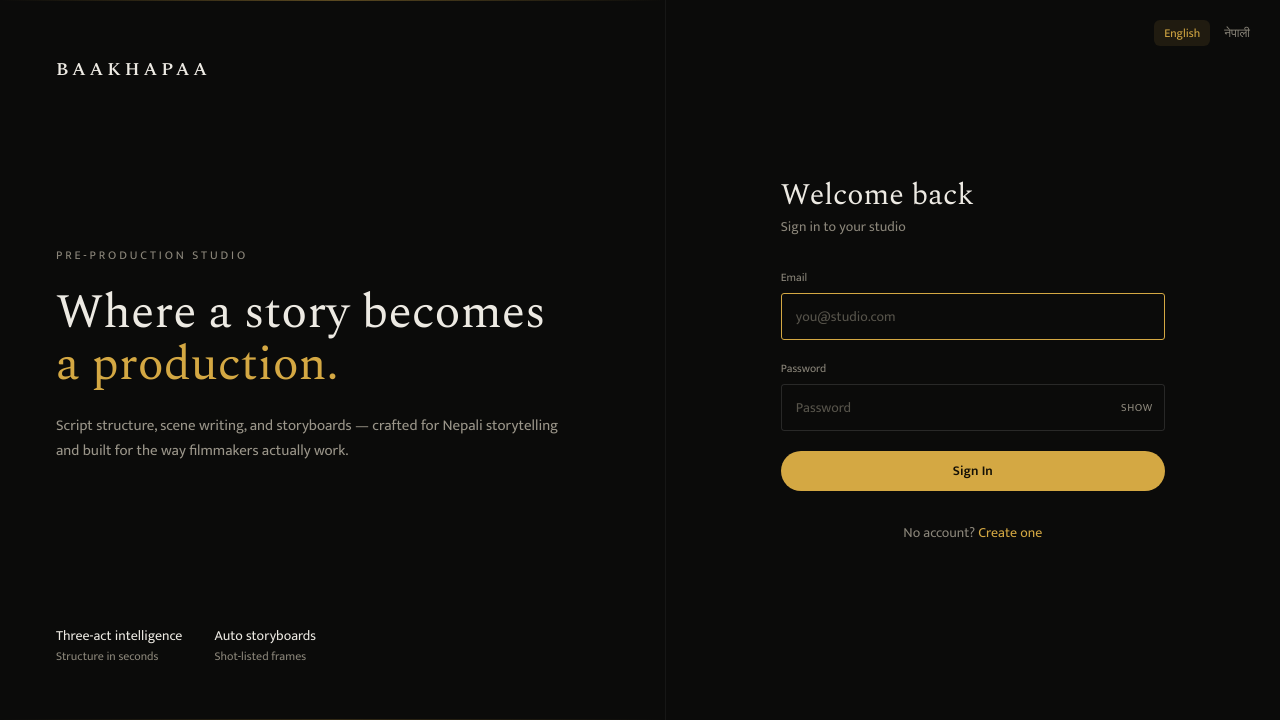
Test case: a failed sign-in is announced, not just coloured
Type "a@b.co" into the field labelled "Email" at (973, 316), box 781,293 -> 1165,340
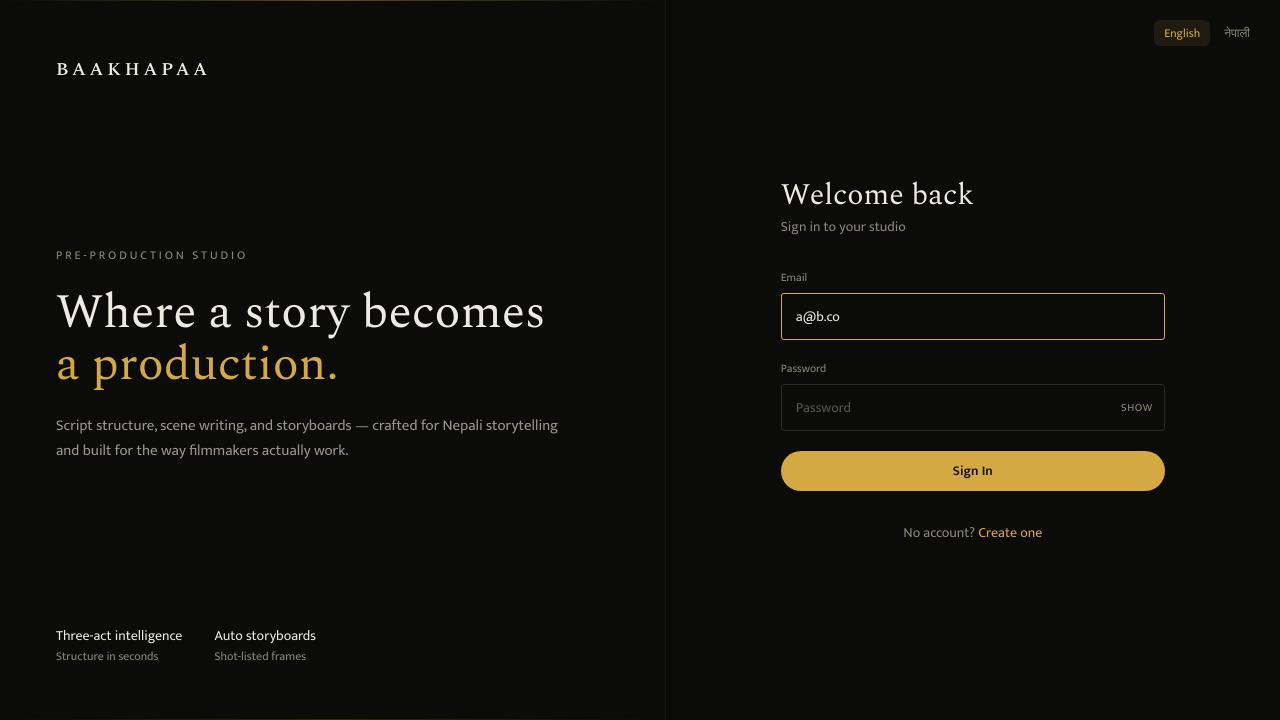
Type "x" into the password field labelled "Password" at (973, 408), box 781,384 -> 1165,431
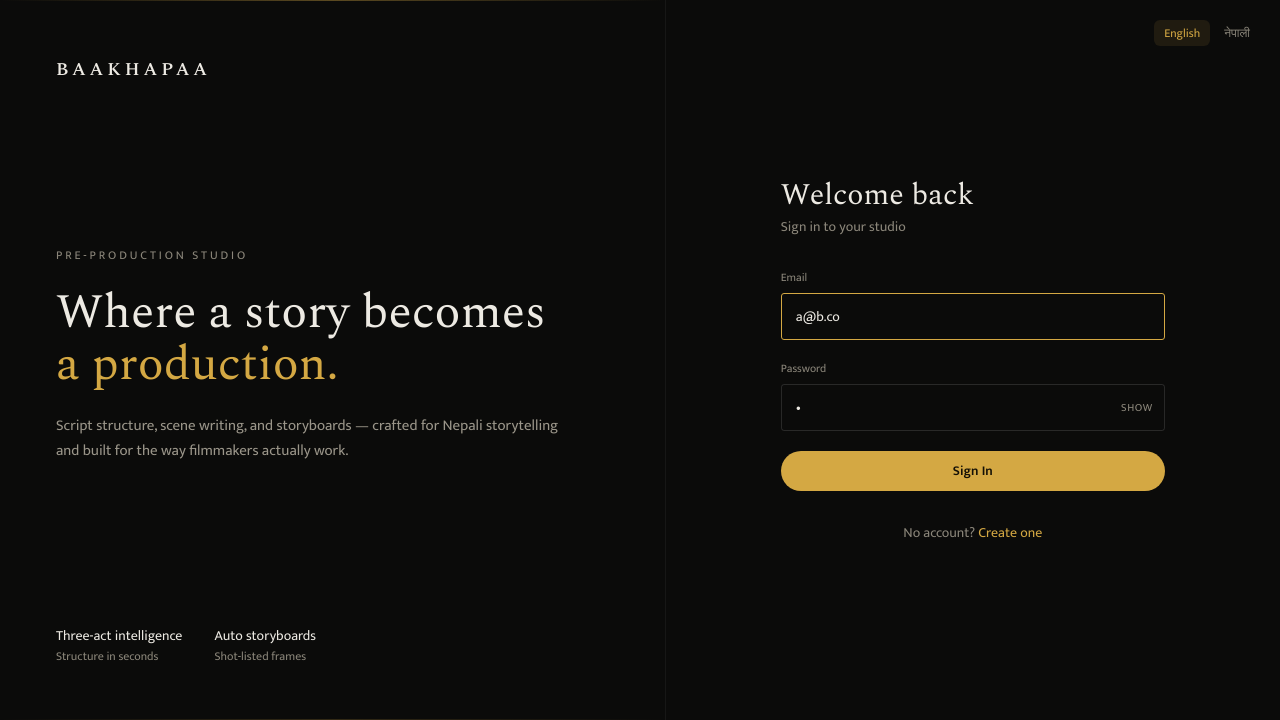
Click the button "Sign In" at (973, 471), box 781,451 -> 1165,491
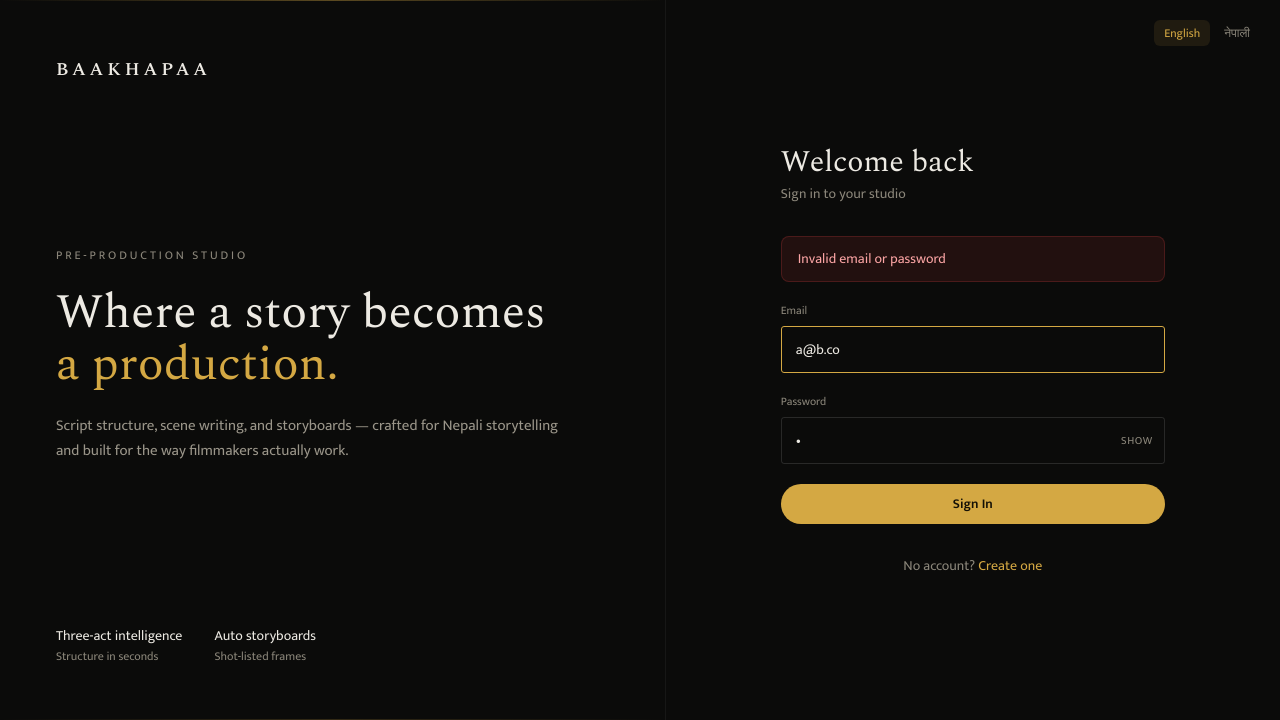
Now the message reads "Invalid email or password", box 798,247 -> 946,270
